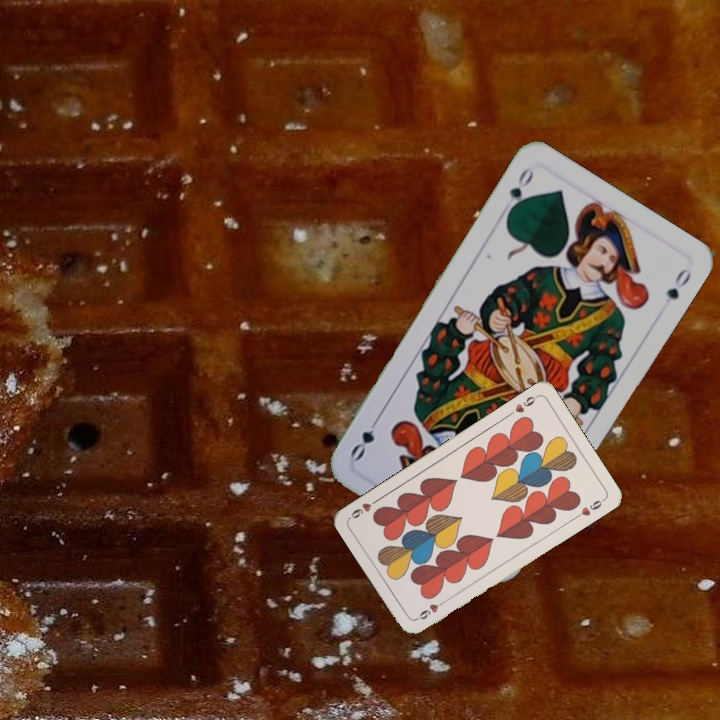GO: (503, 164, 537, 219)
H9: (505, 391, 541, 419), (412, 596, 449, 623)
